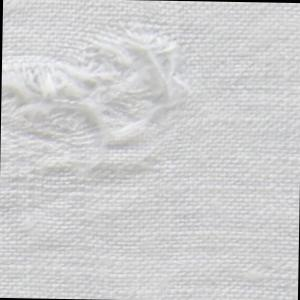Damage: (1, 12, 193, 209)
